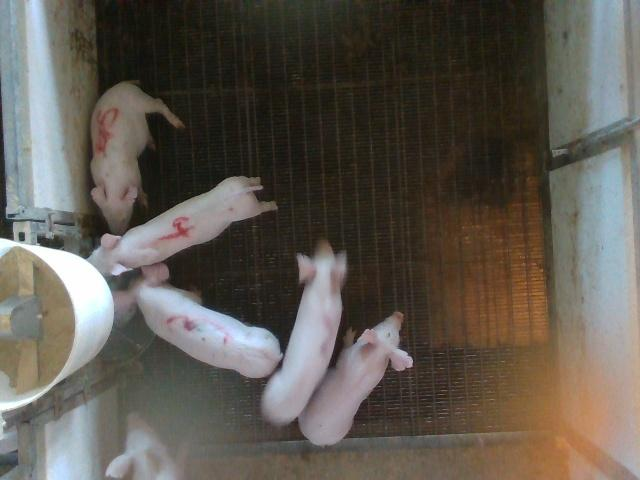pig-2: (261, 240, 346, 425)
pig-3: (114, 262, 282, 378)
pig-4: (89, 178, 276, 275)
pig-5: (91, 81, 184, 234)
